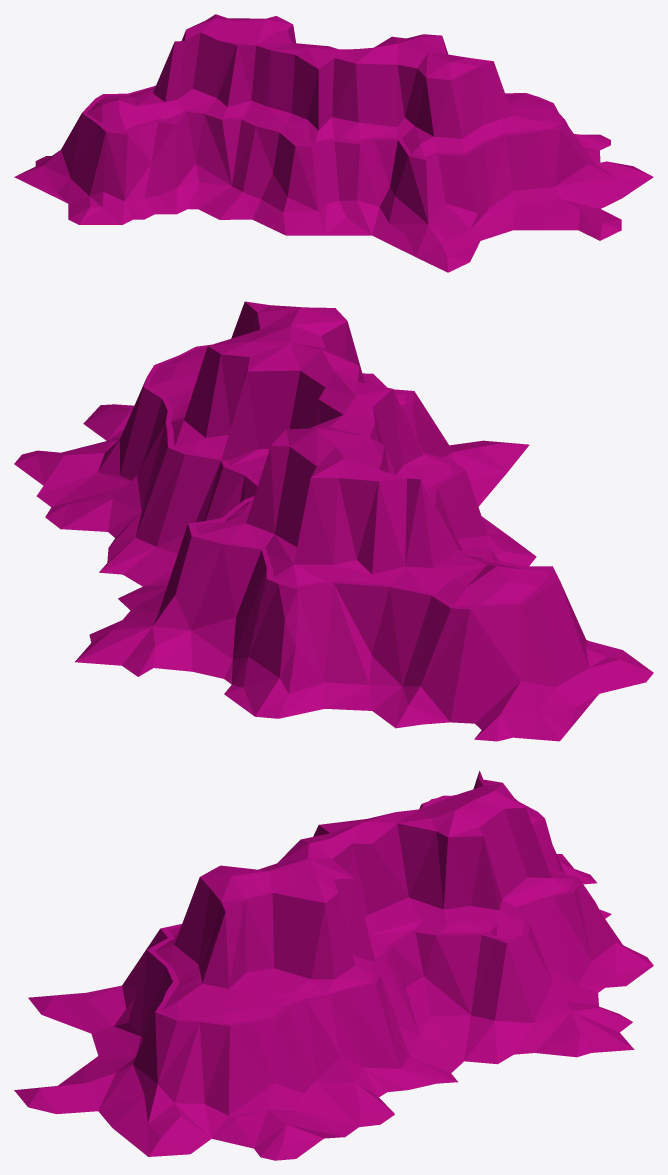
File: montana1.glb
The picture shows the model from 3 angles, top to bottom: view 1: azimuth 30°, elevation 25°; view 2: azimuth 150°, elevation 25°; view 3: azimuth 270°, elevation 25°; orthographic projection. The views are drawn at different scales.
Parts seen in each view (by area): view 1: mountains (3); view 2: mountains (3); view 3: mountains (3).
Boxes of the visible parts, <box> form: mountains (3): <box>14,14,653,272</box>; mountains (3): <box>14,301,653,741</box>; mountains (3): <box>14,771,653,1160</box>.
Bounding box in the file's own units: 79.36 × 21.23 × 69.59.
